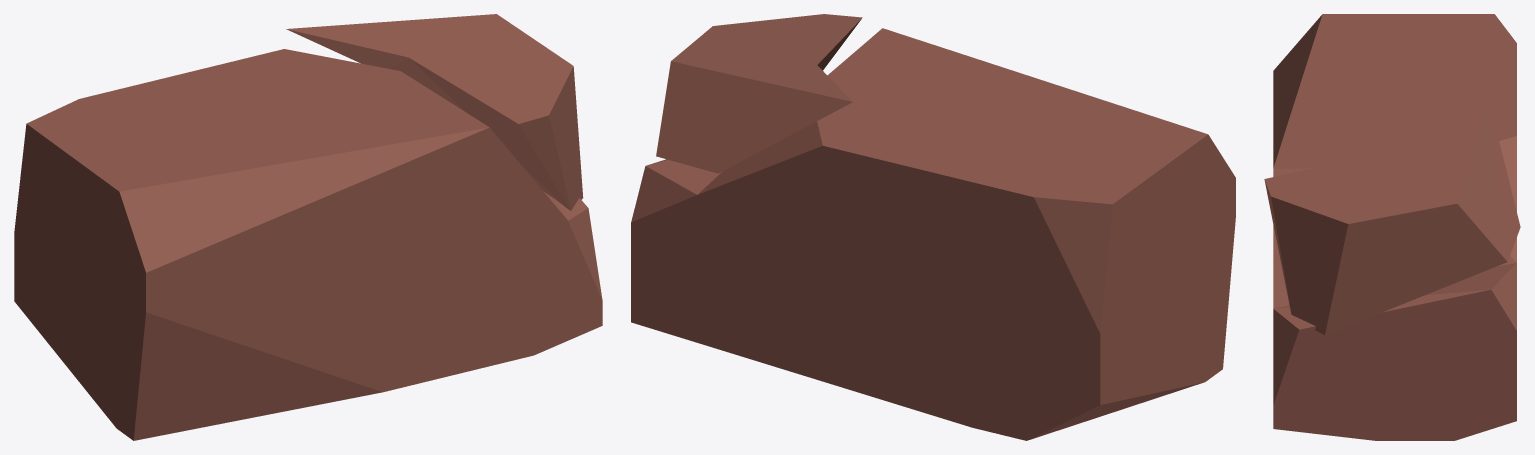
Rendered from Brick_B_05.FBX.
3 views of the same model, side by side, from view 1: azimuth 30°, elevation 25°; view 2: azimuth 150°, elevation 25°; view 3: azimuth 270°, elevation 25° (orthographic). The views are drawn at different scales.
Parts seen in each view (by area): view 1: Brick_B_05; view 2: Brick_B_05; view 3: Brick_B_05.
Part boxes in pixels (box(x1,y1,x2,y2)): Brick_B_05: box(14, 14, 602, 440); Brick_B_05: box(631, 14, 1235, 440); Brick_B_05: box(1264, 14, 1520, 440).
Size of the model in its own units: 1.16 by 0.6495 by 0.5963.
